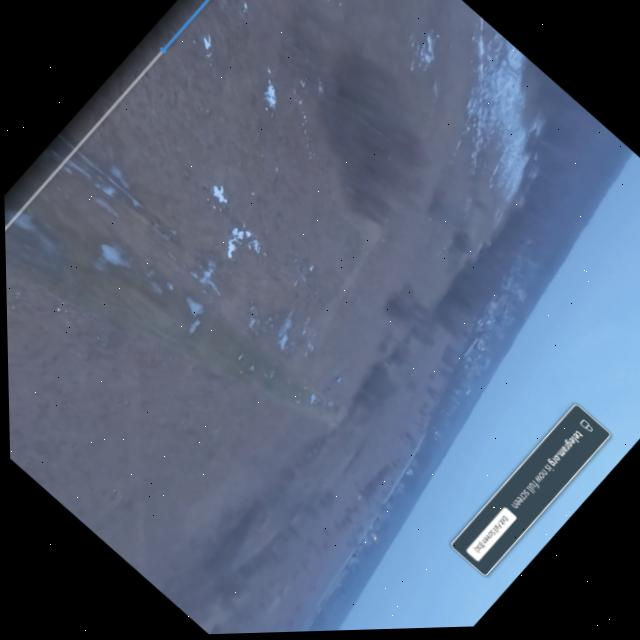planedrone: (322, 369, 352, 399)
